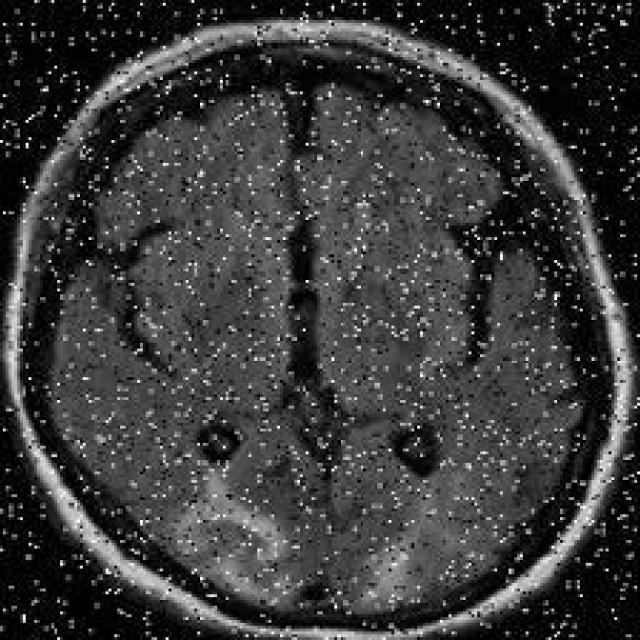no_tumor: (5, 15, 639, 640)
